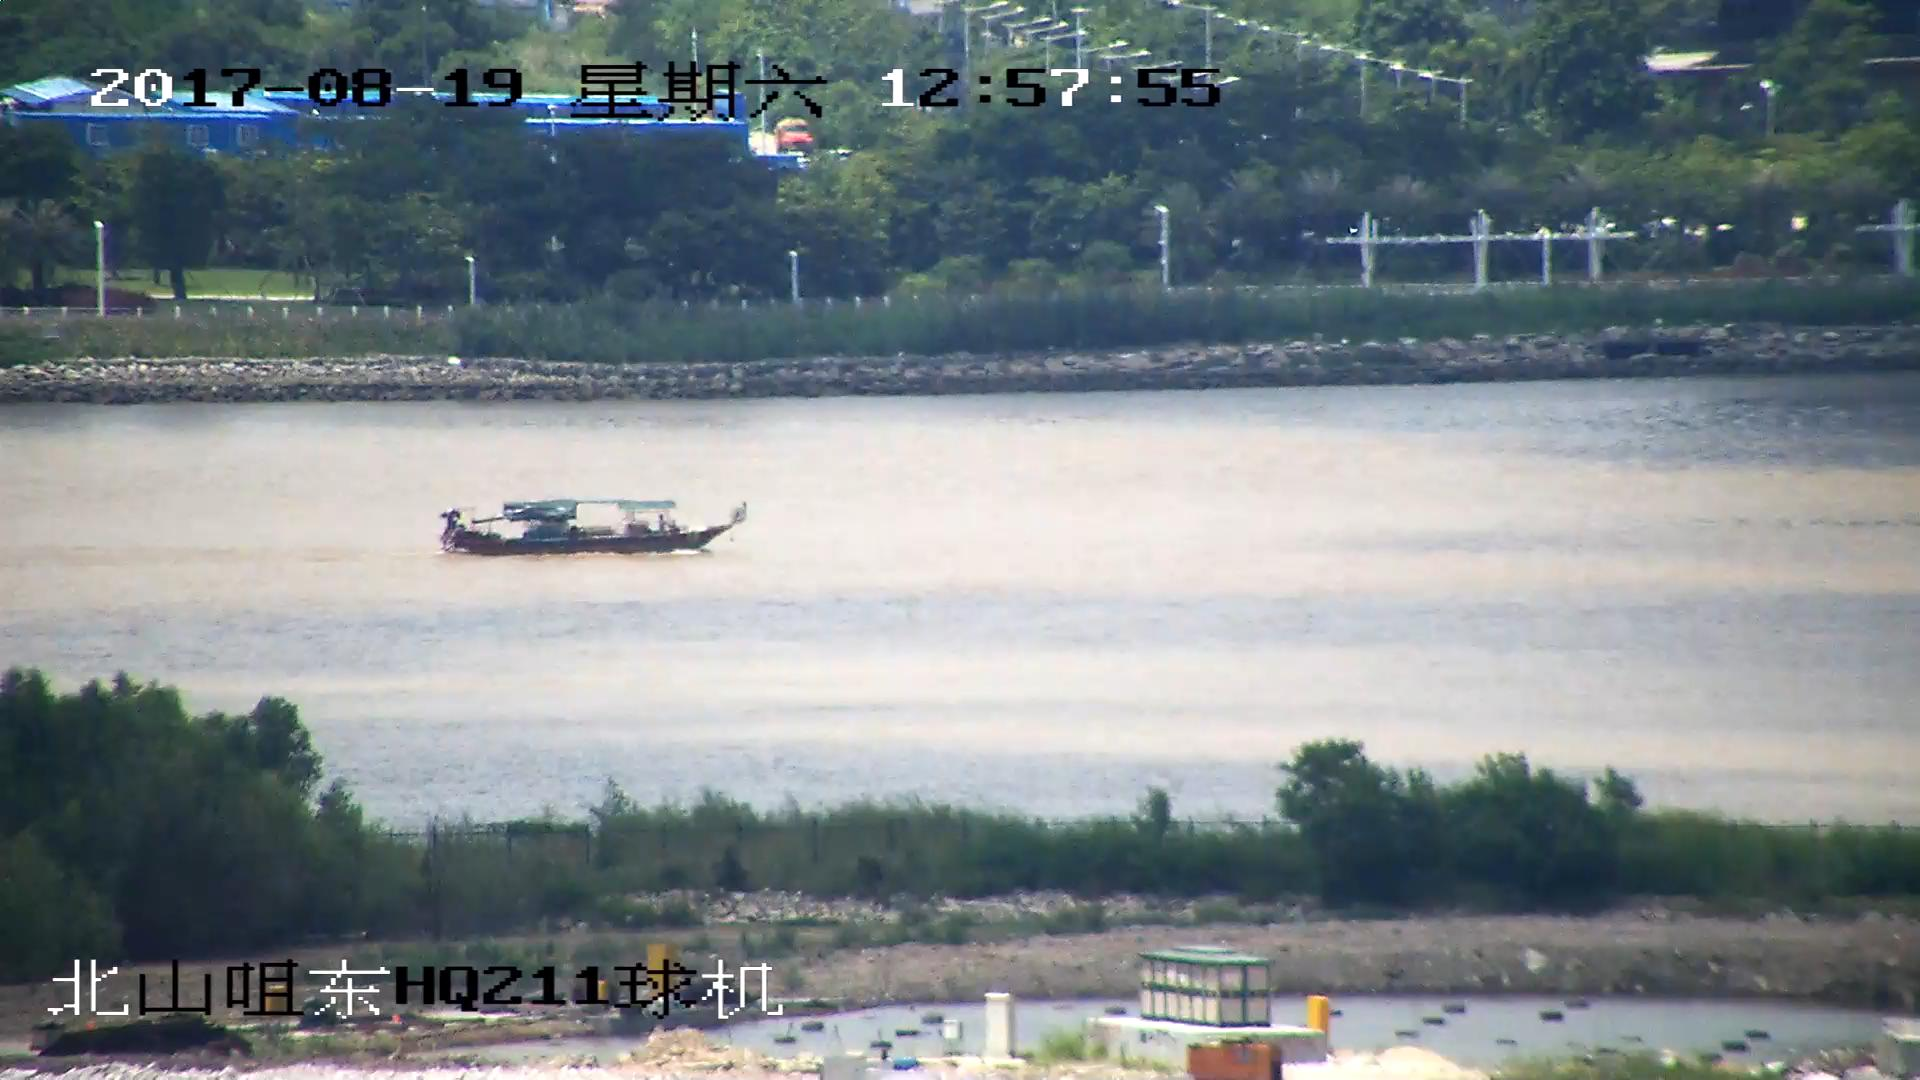fishing boat: (442, 497, 745, 558)
